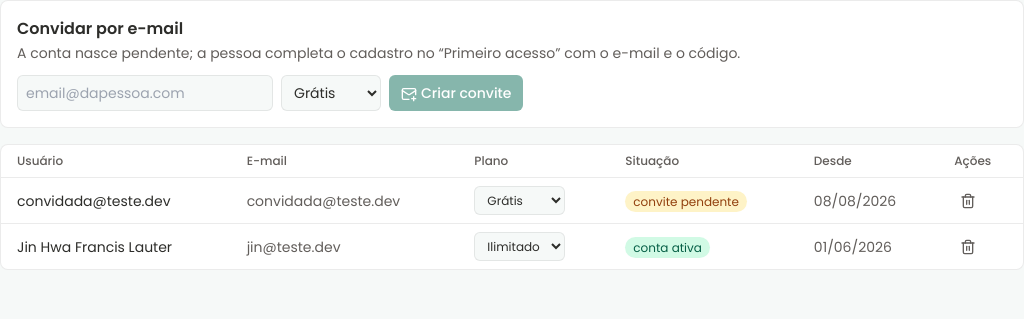
Test: UsersAdminView — edição de plano › falha ao trocar o plano mostra a mensagem do back
This screenshot has width=1024, height=319.
Select "Pessoal" in the dropdown named "Plano de jin@teste.dev" at (520, 246), box [474,232,565,261]
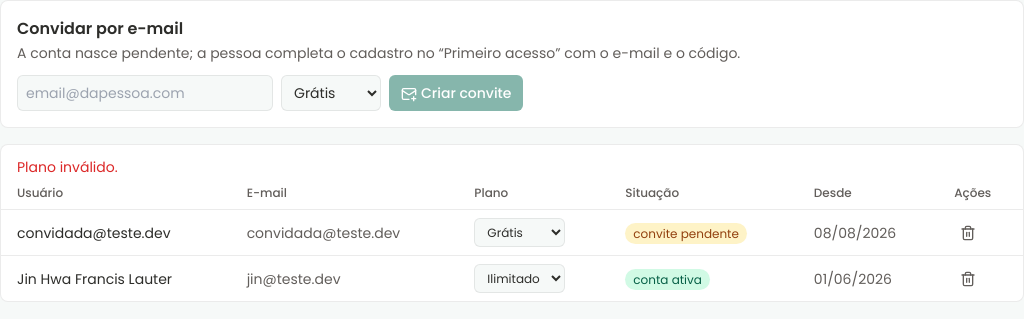
Result: the text "Plano inválido." is shown at [17,157,118,177]
